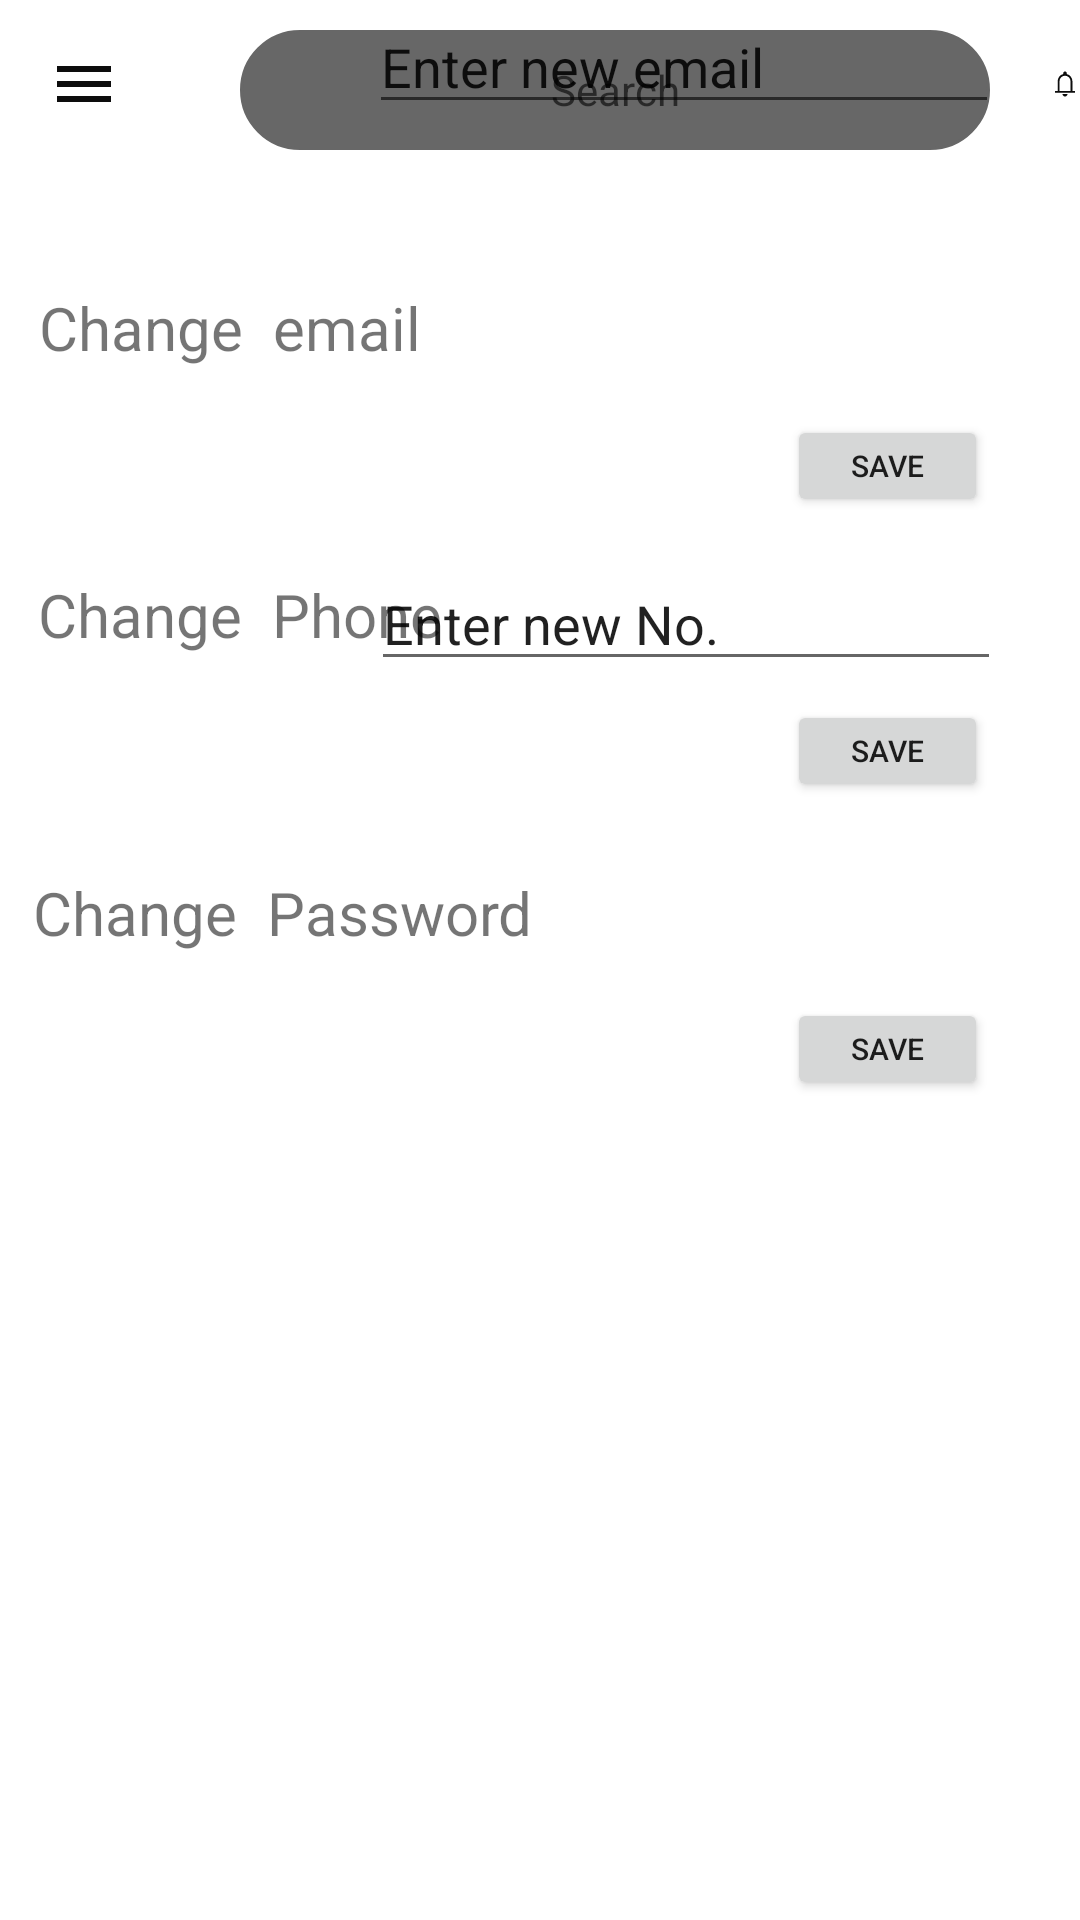

Icons on this 1080×1920 Android screen, each with the point to tap as (x,y):
notifications: (1065,84)
